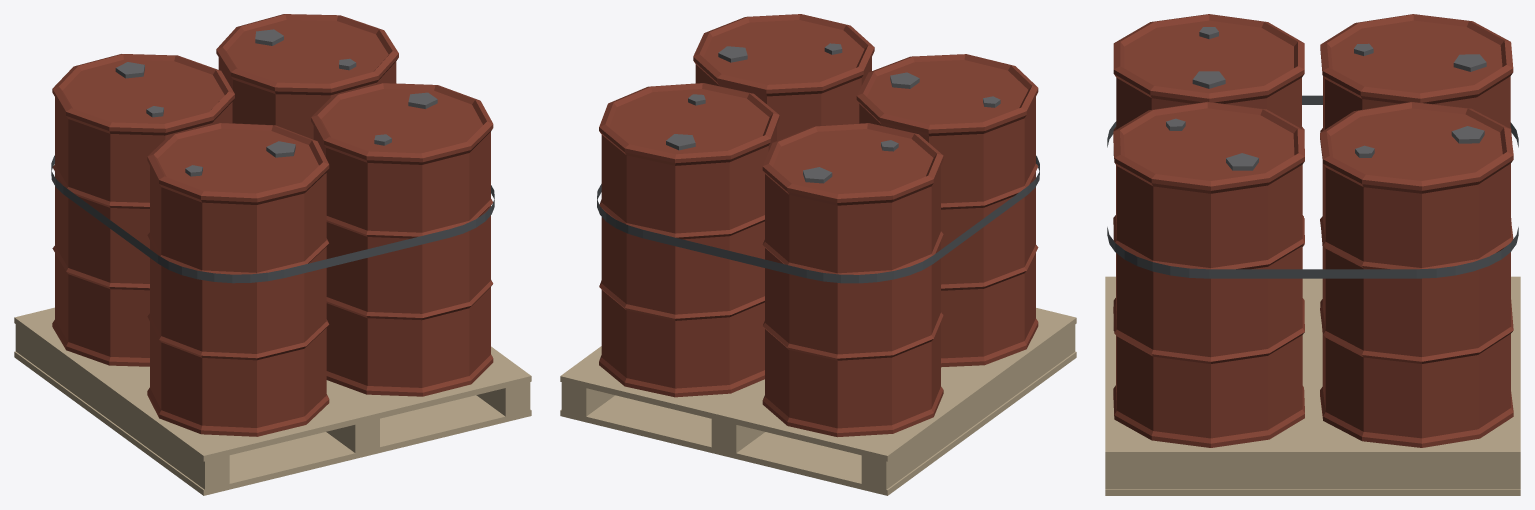
File: drum-stack.glb
3 views of the same model, side by side, from view 1: azimuth 30°, elevation 25°; view 2: azimuth 150°, elevation 25°; view 3: azimuth 270°, elevation 25° (orthographic). The views are drawn at different scales.
Parts seen in each view (by area): view 1: DrumStack; view 2: DrumStack; view 3: DrumStack.
Part boxes in pixels (bbox=[...]): DrumStack: bbox=[14, 14, 531, 495]; DrumStack: bbox=[560, 14, 1076, 495]; DrumStack: bbox=[1105, 14, 1520, 495].
Size of the model in its own units: 1.2 by 0.99 by 1.2.
